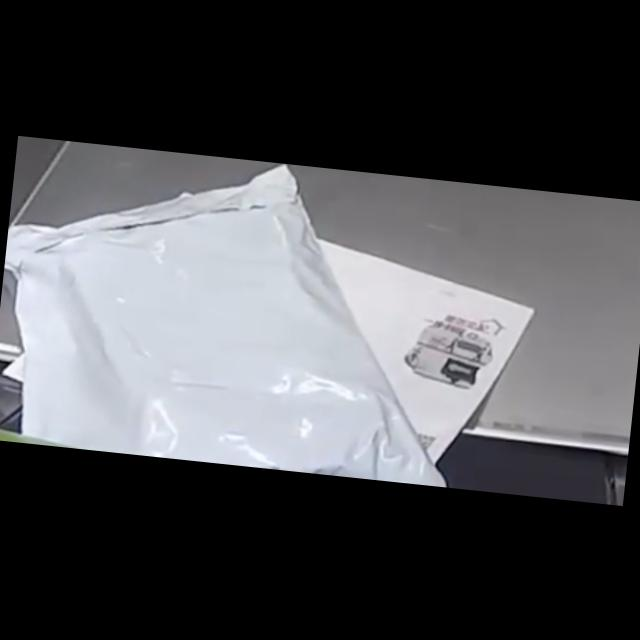mailer: (0, 134, 485, 487), (288, 229, 546, 466)
